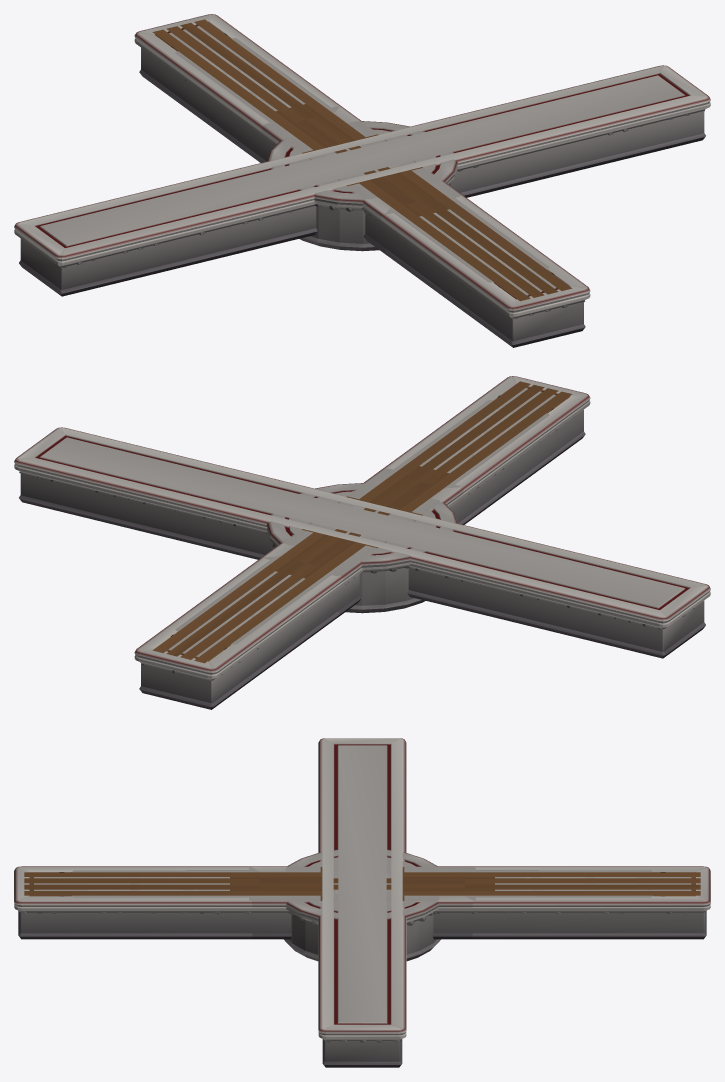
File: fortress-3---j2frPv.glb
The picture shows the model from 3 angles, top to bottom: view 1: azimuth 30°, elevation 25°; view 2: azimuth 150°, elevation 25°; view 3: azimuth 270°, elevation 25°; orthographic projection. The views are drawn at different scales.
Parts seen in each view (by area): view 1: block_47.29999999999927x2x6#0, block_6x2x47.400000000000006#0, block_4x2x46_plank#0, disc_12x1.5#0, block_5x2x40#0, beam_2x1.5x14#0, block_6x2x16#0, beam_2.5x1.5x18_plank#0, block_5x2x25#0, block_6x2x11#0; view 2: block_47.29999999999927x2x6#0, block_6x2x47.400000000000006#0, block_4x2x46_plank#0, disc_12x1.5#0, block_5x2x40#0, beam_2x1.5x14#0, block_6x2x16#0, beam_2.5x1.5x18_plank#0, block_5x2x25#0, block_6x2x11#0; view 3: block_47.29999999999927x2x6#0, block_6x2x47.400000000000006#0, block_4x2x46_plank#0, disc_12x1.5#0, block_5x2x40#0, block_6x2x16#0, beam_2x1.5x14#0, block_5x2x25#0, beam_2.5x1.5x18_plank#0, block_6x2x11#0.
Part boxes in pixels (x1=…): block_47.29999999999927x2x6#0: x1=14, y1=65, x2=710, y2=296; block_6x2x47.400000000000006#0: x1=134, y1=14, x2=590, y2=347; block_4x2x46_plank#0: x1=152, y1=19, x2=572, y2=301; disc_12x1.5#0: x1=267, y1=121, x2=458, y2=251; block_5x2x40#0: x1=175, y1=38, x2=549, y2=282; beam_2x1.5x14#0: x1=294, y1=116, x2=430, y2=204; block_6x2x16#0: x1=261, y1=106, x2=462, y2=255; beam_2.5x1.5x18_plank#0: x1=275, y1=104, x2=449, y2=216; block_5x2x25#0: x1=235, y1=82, x2=489, y2=238; block_6x2x11#0: x1=284, y1=121, x2=440, y2=237; block_47.29999999999927x2x6#0: x1=14, y1=427, x2=710, y2=658; block_6x2x47.400000000000006#0: x1=134, y1=376, x2=590, y2=709; block_4x2x46_plank#0: x1=152, y1=381, x2=572, y2=663; disc_12x1.5#0: x1=266, y1=483, x2=457, y2=613; block_5x2x40#0: x1=175, y1=400, x2=549, y2=644; beam_2x1.5x14#0: x1=294, y1=478, x2=430, y2=566; block_6x2x16#0: x1=262, y1=468, x2=463, y2=617; beam_2.5x1.5x18_plank#0: x1=275, y1=466, x2=449, y2=578; block_5x2x25#0: x1=235, y1=444, x2=489, y2=600; block_6x2x11#0: x1=284, y1=483, x2=440, y2=599; block_47.29999999999927x2x6#0: x1=318, y1=738, x2=406, y2=1067; block_6x2x47.400000000000006#0: x1=14, y1=866, x2=710, y2=939; block_4x2x46_plank#0: x1=24, y1=872, x2=700, y2=896; disc_12x1.5#0: x1=284, y1=849, x2=440, y2=961; block_5x2x40#0: x1=71, y1=870, x2=653, y2=897; block_6x2x16#0: x1=249, y1=866, x2=475, y2=939; beam_2x1.5x14#0: x1=259, y1=878, x2=465, y2=889; block_5x2x25#0: x1=182, y1=870, x2=542, y2=897; beam_2.5x1.5x18_plank#0: x1=230, y1=877, x2=494, y2=890; block_6x2x11#0: x1=285, y1=867, x2=439, y2=936.
Size of the model in its own units: 47.3 by 4.3 by 47.4.
